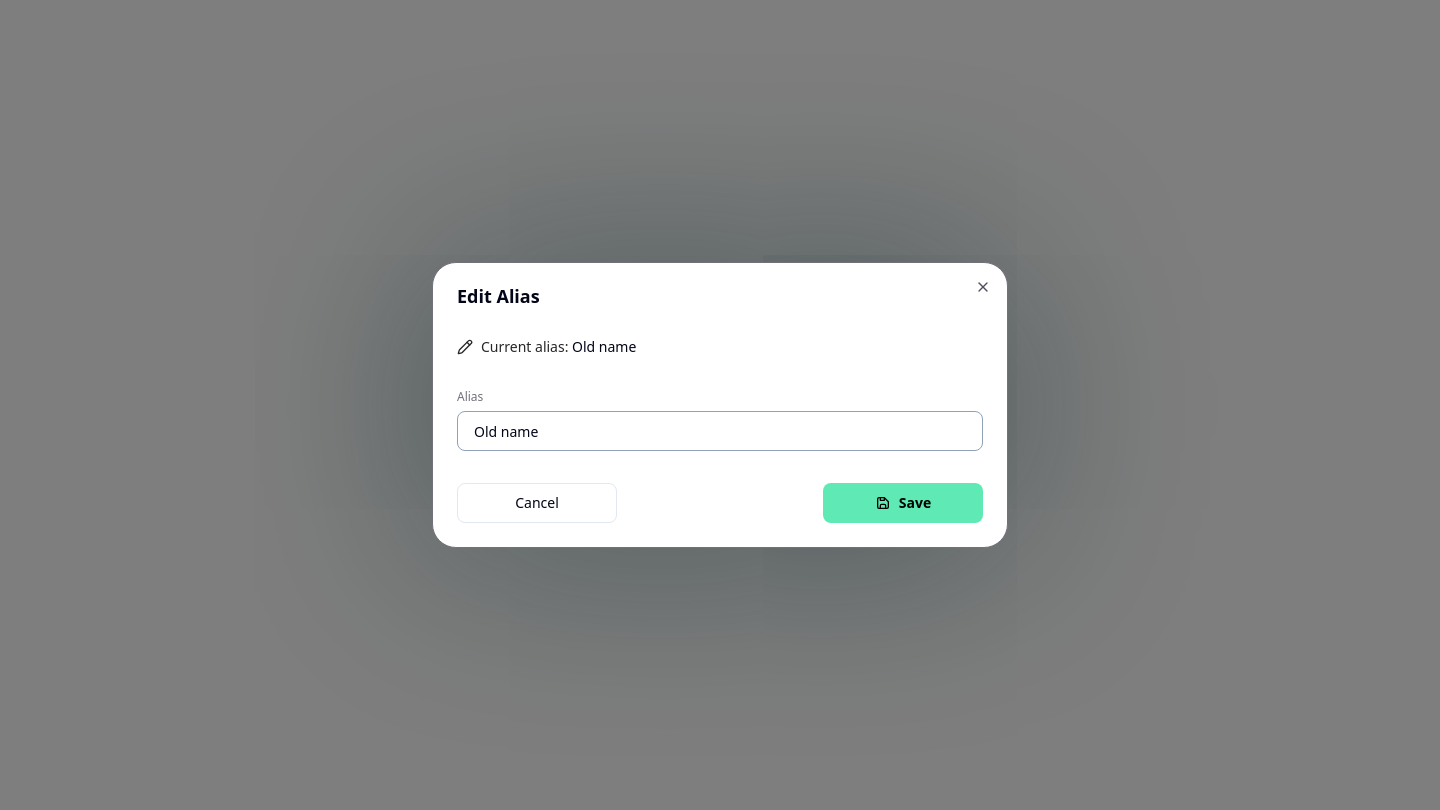
Scenario: EditAliasModal › surfaces server-side errors on the alias field
Type "Conflicting" into the field labelled "Alias" at {"x": 720, "y": 431}, box [457,411,983,451]
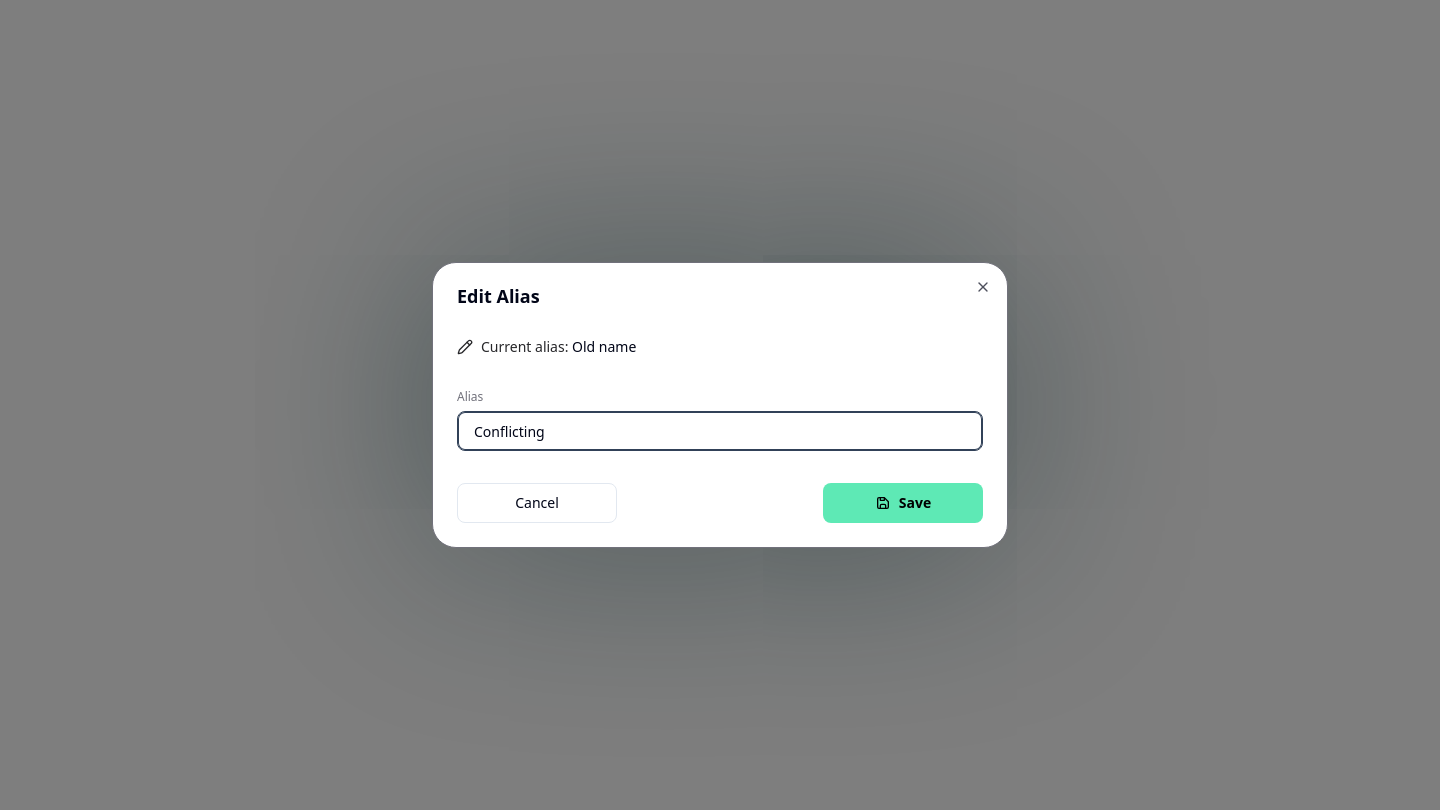
Click the button "Save" at {"x": 903, "y": 503}, box [823,483,983,523]
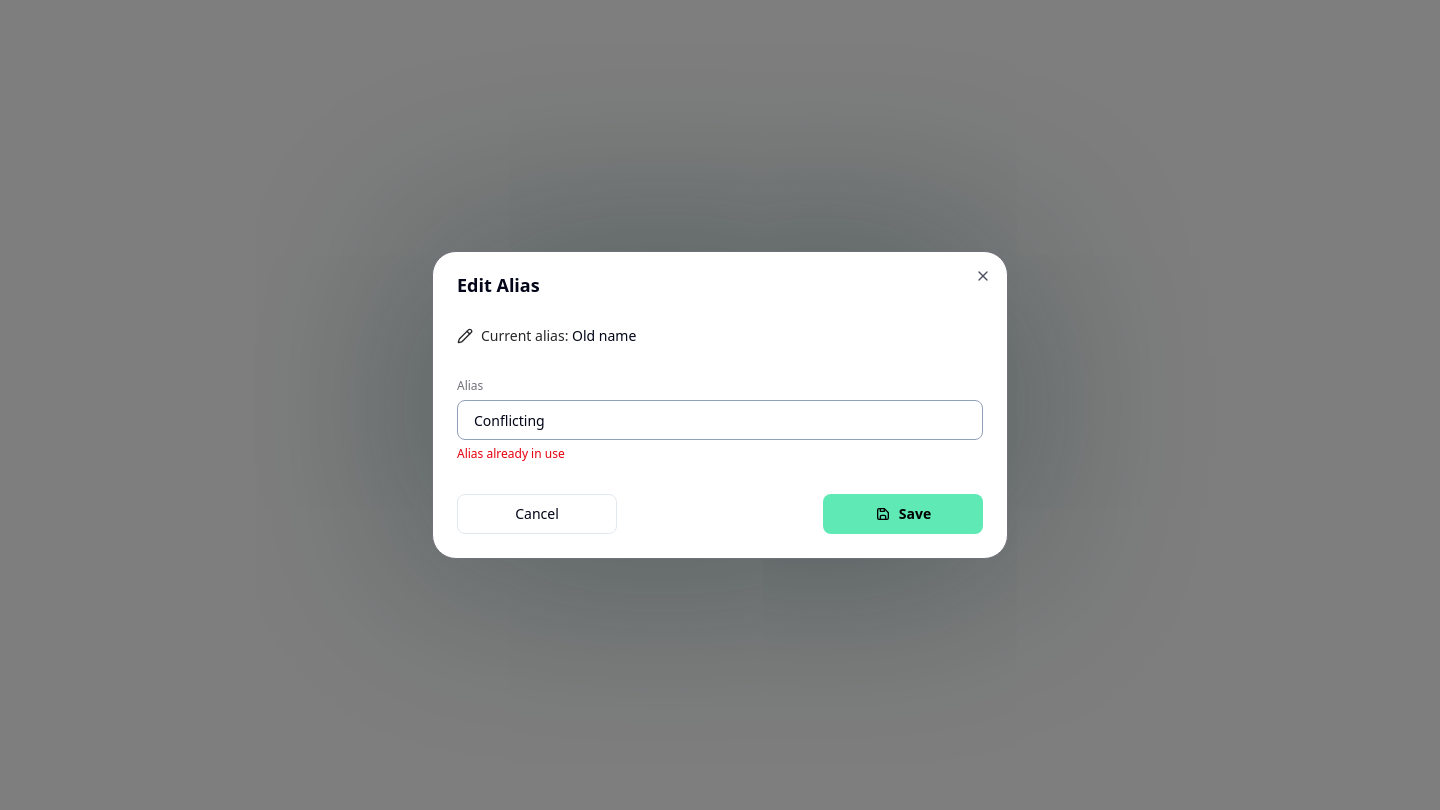
Now the text "Alias already in use" is shown, box [457,445,565,462]
